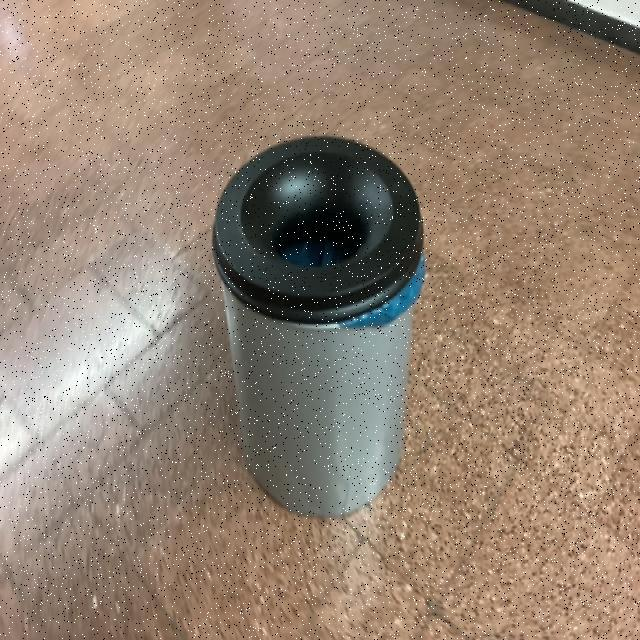garbage container: (188, 100, 437, 535)
